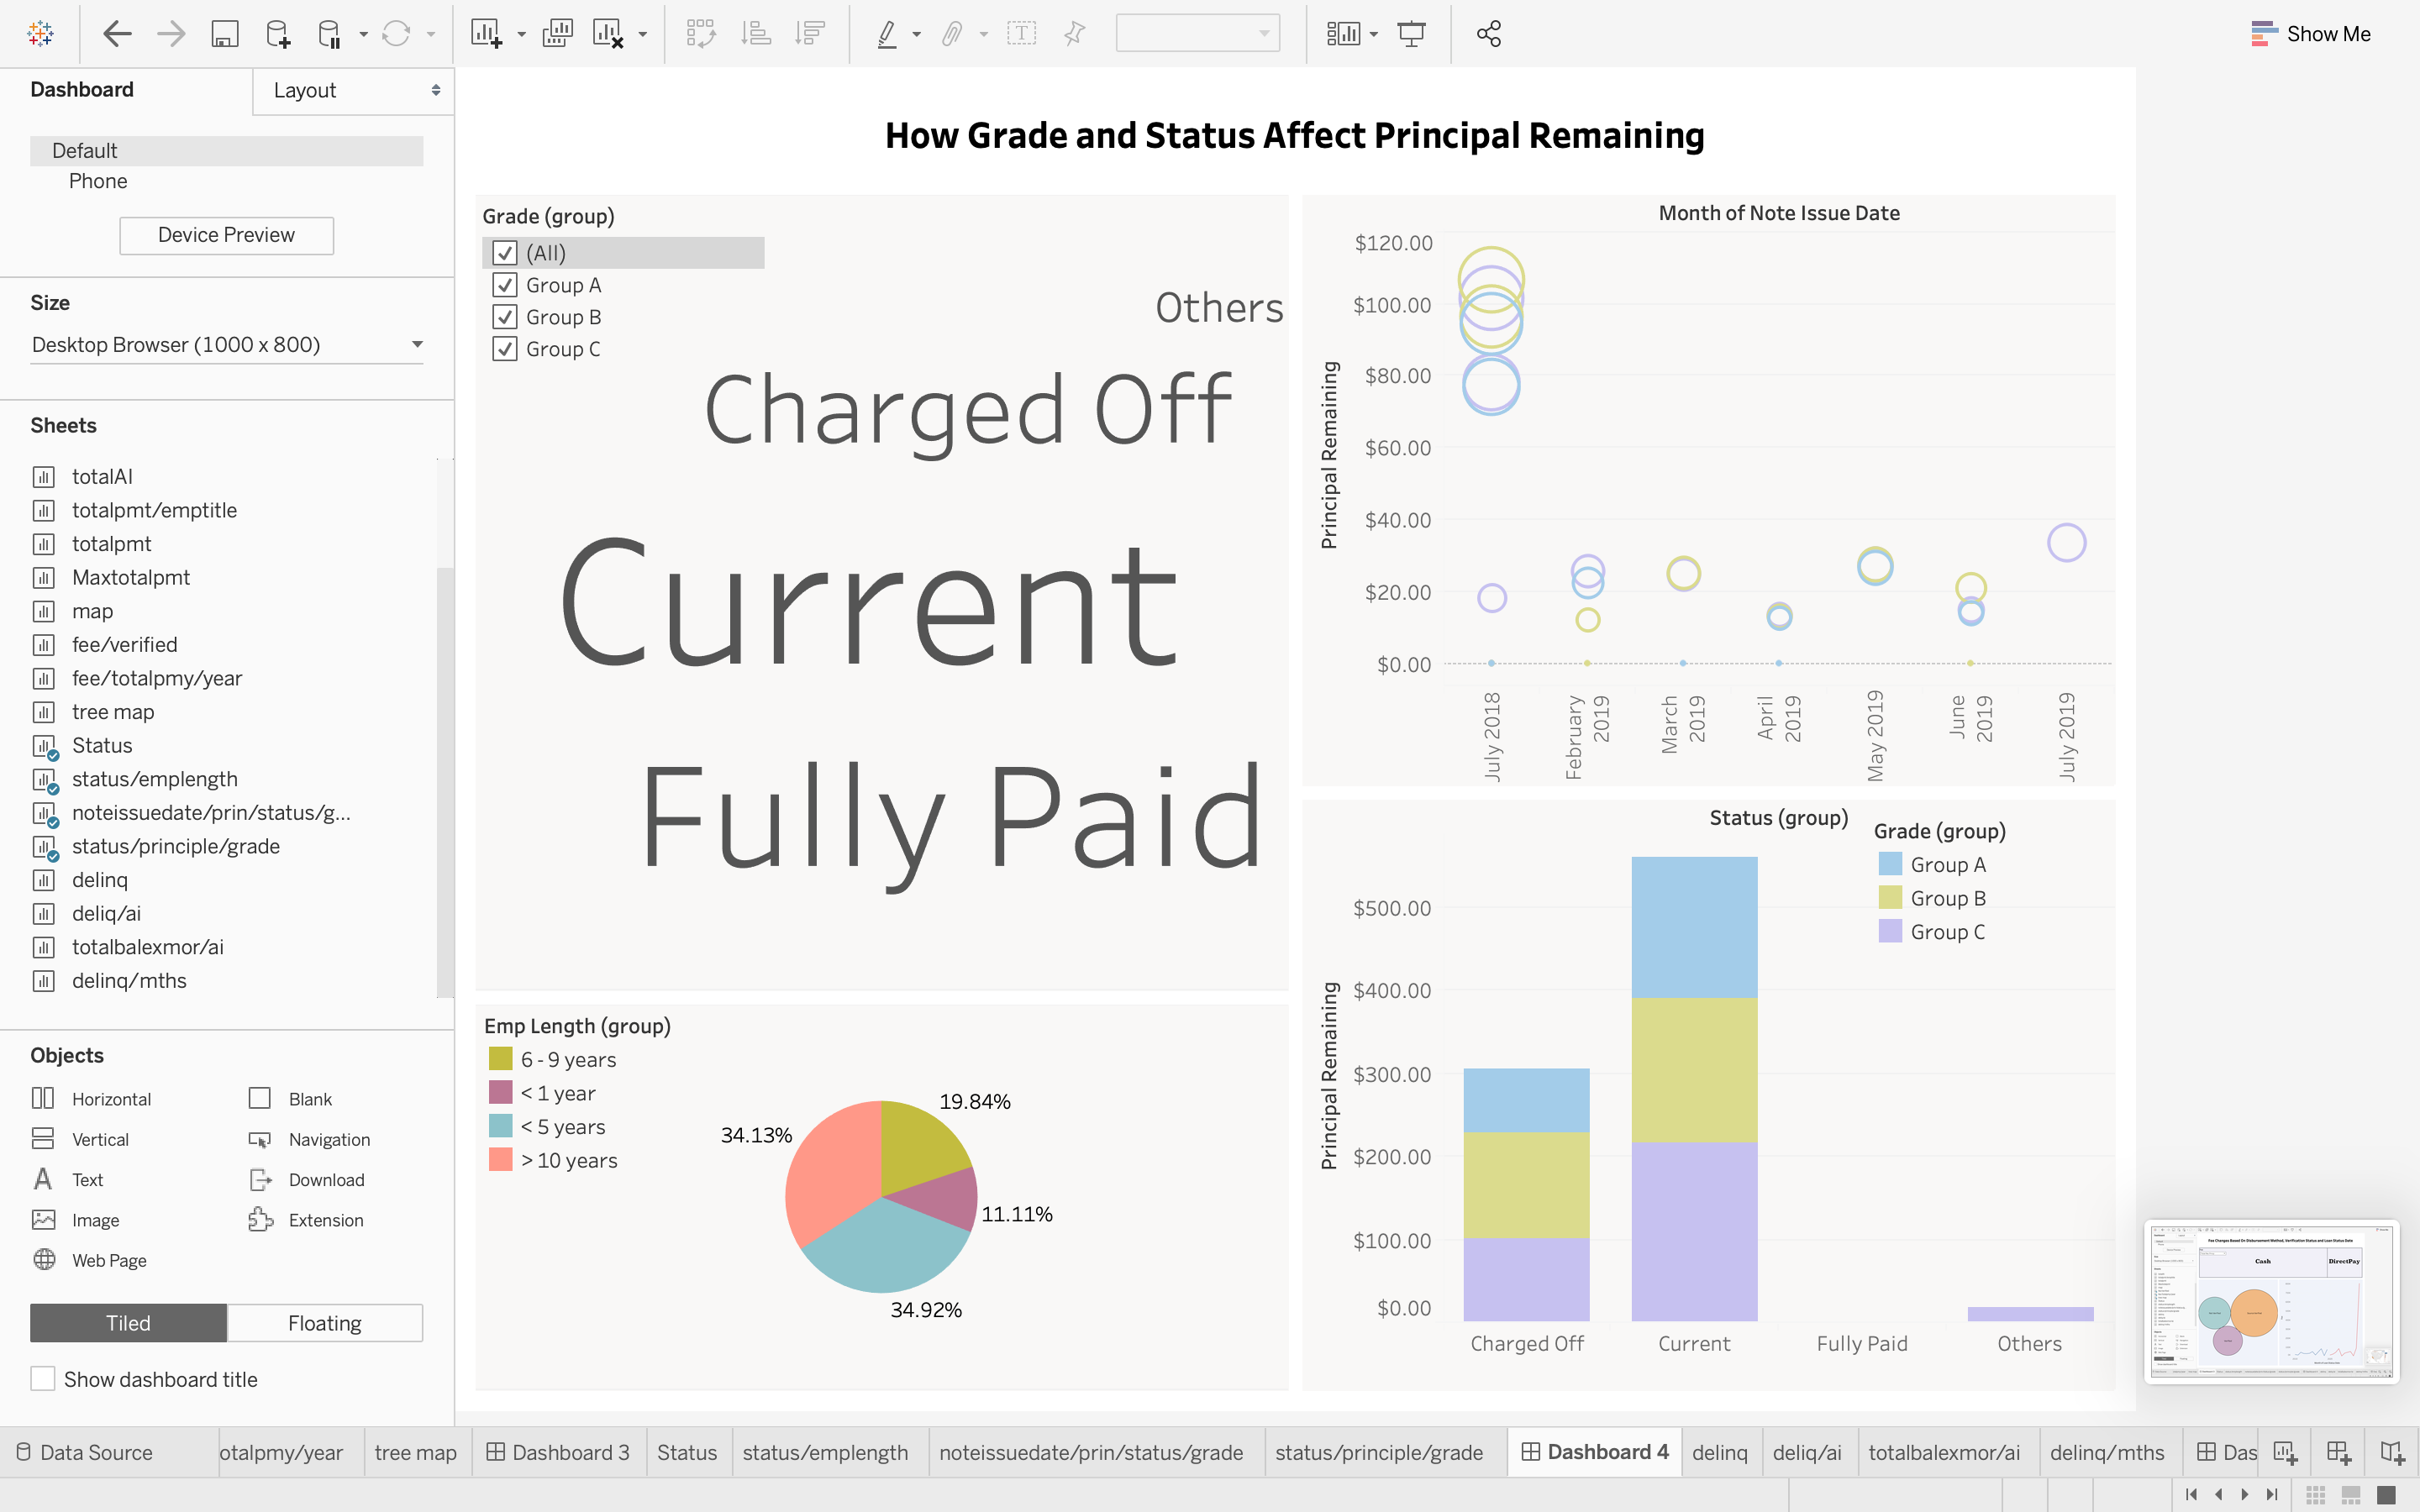

This screenshot's page, from the dashboard's own definition file:
{"tool":"tableau","page":{"name":"Dashboard 4","canvas":[1000,800],"ordinal":2},"visuals":[{"type":"worksheet","box":[0,0,1000,800]},{"type":"worksheet","box":[8,8,984,64]},{"type":"worksheet","param":"horz","box":[8,72,984,720]},{"type":"worksheet","param":"horz","box":[8,72,984,720]},{"type":"worksheet","param":"horz","box":[8,72,984,720]},{"type":"worksheet","param":"horz","box":[8,72,984,720]},{"type":"worksheet","param":"horz","box":[8,72,984,720]},{"type":"worksheet","param":"horz","box":[8,72,984,720]},{"type":"worksheet","param":"horz","box":[8,72,984,720]},{"type":"worksheet","box":[8,72,984,720]},{"type":"worksheet","title":"Status","mark":"Text","box":[8,72,492,482.2]},{"type":"worksheet","title":"noteissuedate/prin/status/grade","mark":"Shape","rows":["PrincipalRemaining"],"cols":["Note Issue Date"],"box":[500,72,492,360]},{"type":"worksheet","title":"noteissuedate/prin/status/grade","mark":"Shape","rows":["PrincipalRemaining"],"cols":["Note Issue Date"],"param":"[federated.1r03xfe1tay67917j0ytv04nyqhp].[Grade (group)]","box":[16,80,168,108]},{"type":"worksheet","title":"status/principle/grade","mark":"Automatic","rows":["PrincipalRemaining"],"box":[500,432,492,360]},{"type":"worksheet","title":"status/principle/grade","mark":"Automatic","rows":["PrincipalRemaining"],"param":"[federated.1r03xfe1tay67917j0ytv04nyqhp].[Grade (group)]","box":[844,446,140,78]},{"type":"worksheet","title":"status/emplength","mark":"Pie","box":[8,554.2,492,237.8]},{"type":"worksheet","title":"status/emplength","mark":"Pie","param":"[federated.1r03xfe1tay67917j0ytv04nyqhp].[Emp Length (group)]","box":[17,562,140,98]}]}

Visuals, with their boxes on the page's 1000x800 design canvas (x1, y1, x2, y2). These are canvas units, not pixel positions in the 2420x1512 screenshot, which may show the page scaled, cropped or inside an application window:
worksheet: (0,0,1000,800)
worksheet: (8,8,992,72)
worksheet: (8,72,992,792)
worksheet: (8,72,992,792)
worksheet: (8,72,992,792)
worksheet: (8,72,992,792)
worksheet: (8,72,992,792)
worksheet: (8,72,992,792)
worksheet: (8,72,992,792)
worksheet: (8,72,992,792)
"Status" worksheet (Text marks): (8,72,500,554)
"noteissuedate/prin/status/grade" worksheet (Shape marks): (500,72,992,432)
"noteissuedate/prin/status/grade" worksheet (Shape marks): (16,80,184,188)
"status/principle/grade" worksheet: (500,432,992,792)
"status/principle/grade" worksheet: (844,446,984,524)
"status/emplength" worksheet (Pie marks): (8,554,500,792)
"status/emplength" worksheet (Pie marks): (17,562,157,660)
